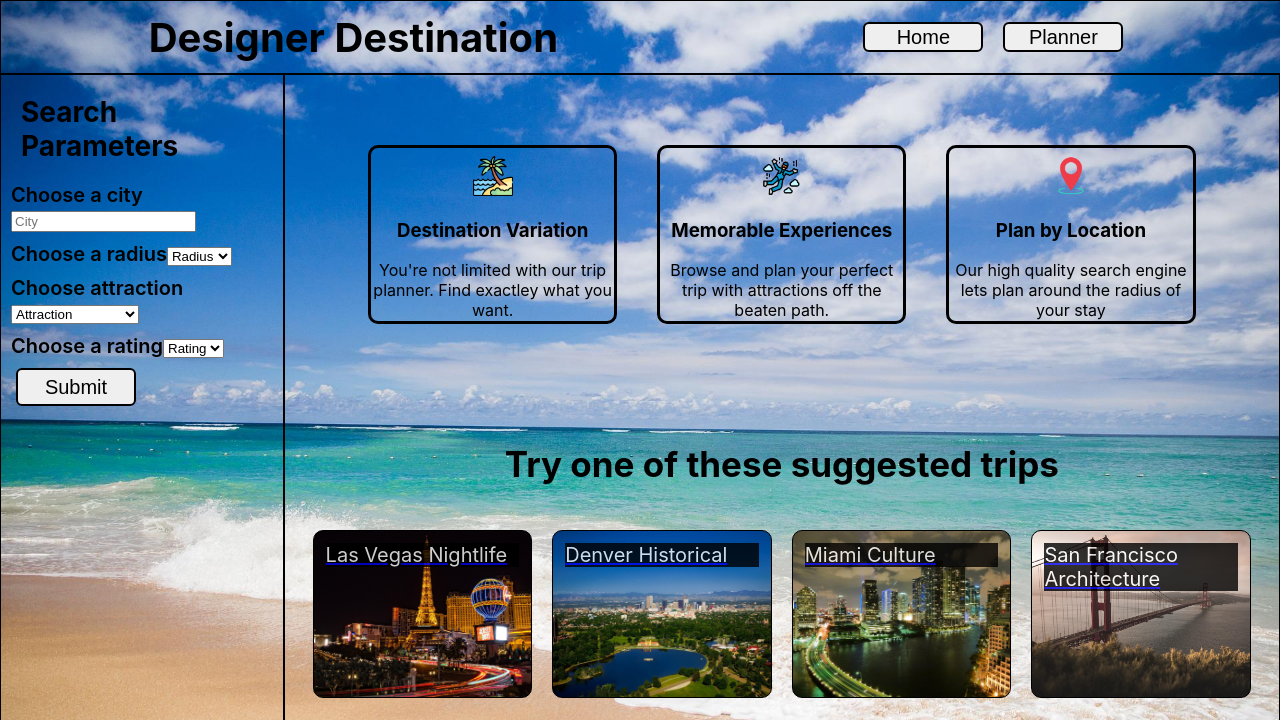
Test case: Planner dashboard › should show error message if no attraction have been added to planner
Click the button "Planner" at (1063, 37), box [1003, 22, 1123, 52]
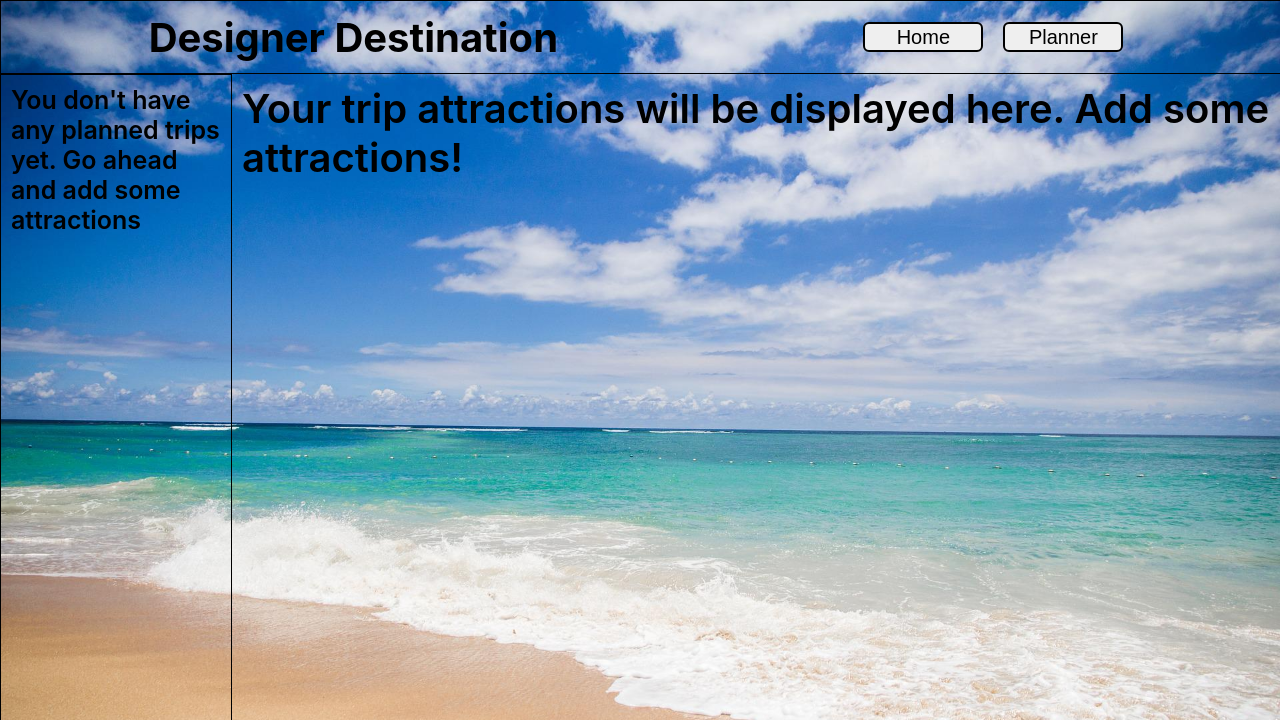
Expected: the text "You don't have any planned trips yet. Go ahead and add some attractions" is shown, [11, 85, 221, 235]
Expected: the text "Your trip attractions will be displayed here. Add some attractions!" is shown, [242, 84, 1269, 182]
